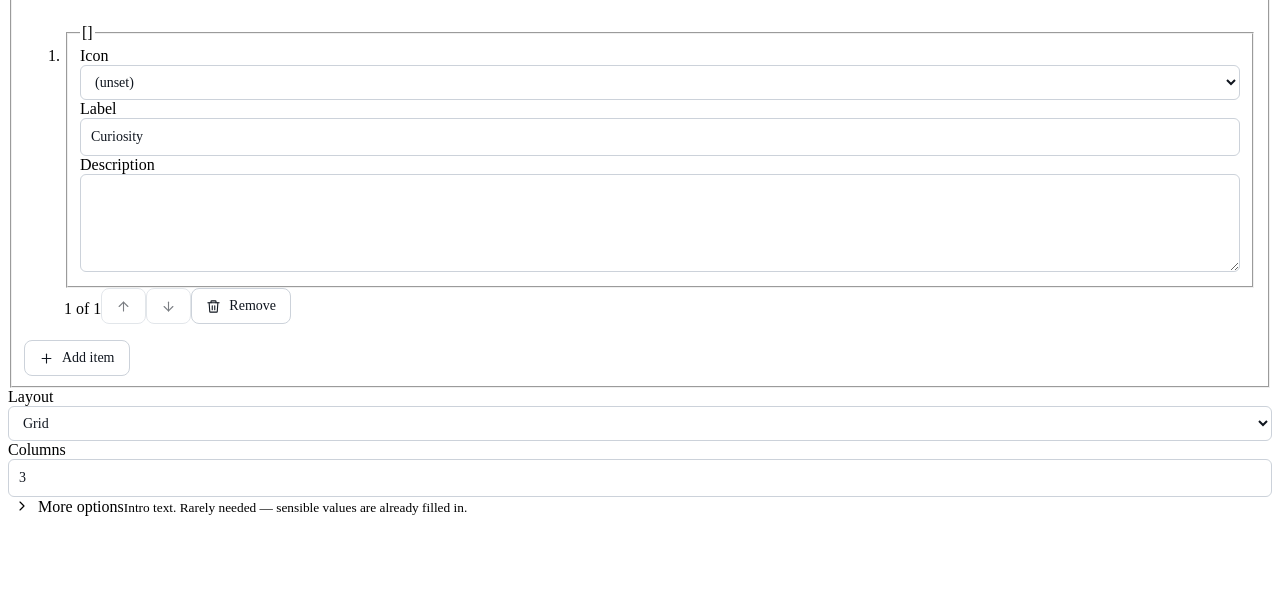
Test: BlockForm — More options section (ADR 0043, T16) › reveals tier=advanced fields when the toggle is on
What coordinates should you click on to do the following:
click the button with test id "advanced-toggle"
I would click on:
 (241, 515)
Its box is [8,497,473,533].
(page scrolled)
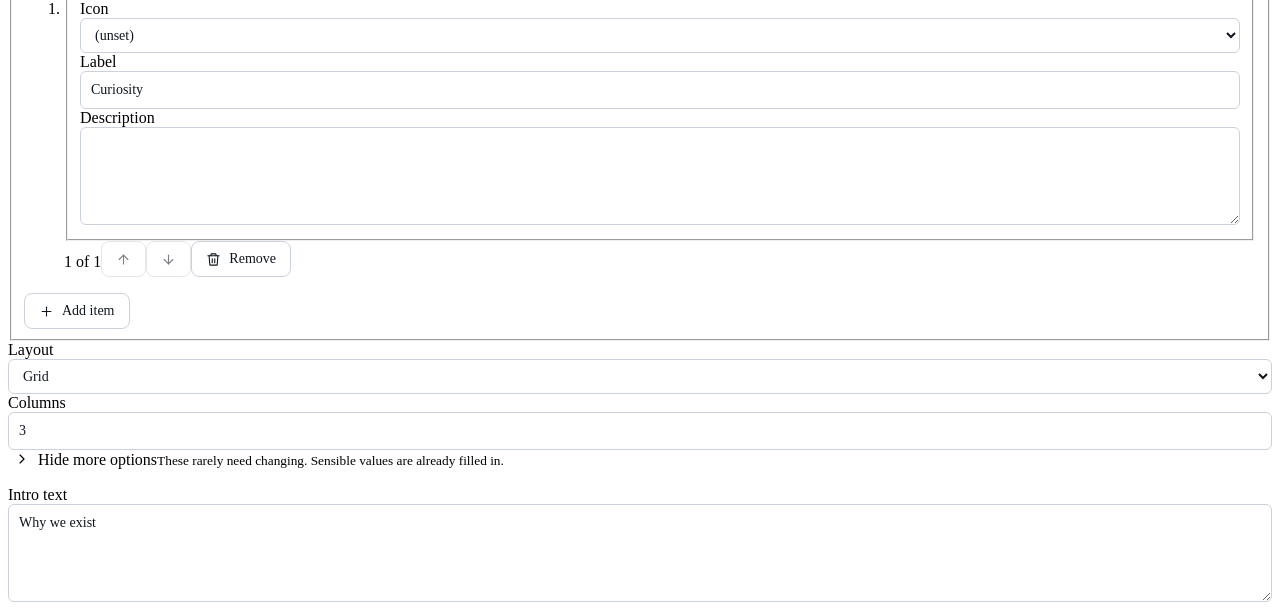
Result: the text box labelled "Intro text" is shown at [8,504,1272,602]
